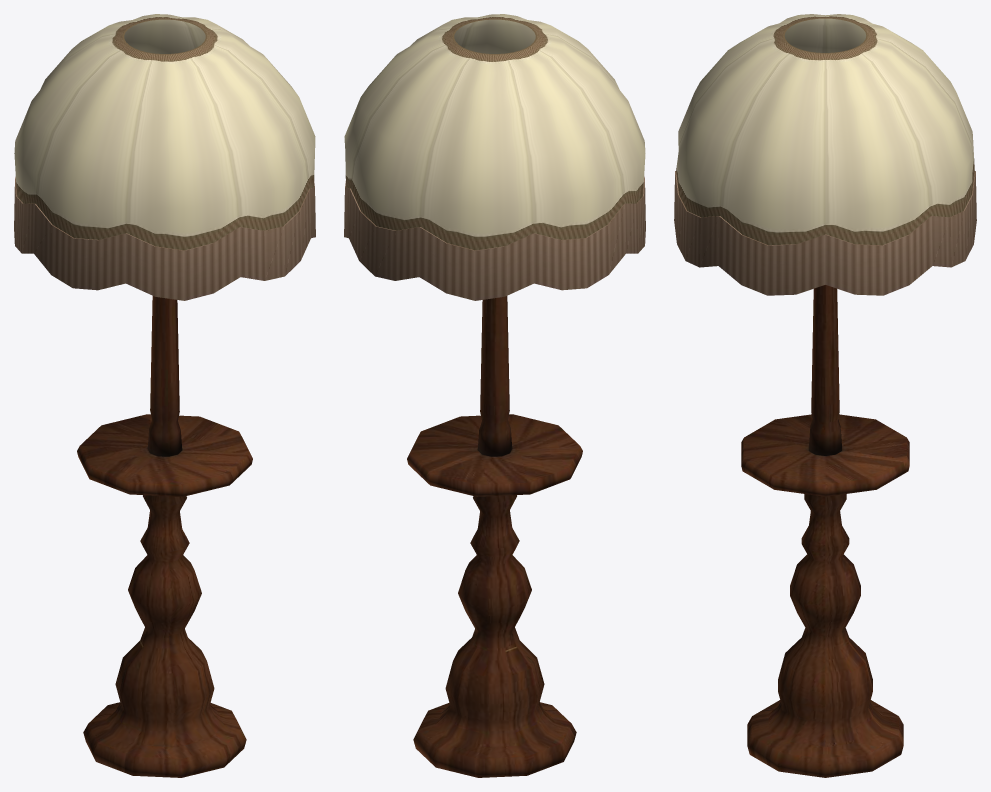
Rendered from floor_lamp_classic_lod1_web.glb.
3 renders of one model, left to right at view 1: azimuth 30°, elevation 25°; view 2: azimuth 150°, elevation 25°; view 3: azimuth 270°, elevation 25°, orthographic.
Visible parts, largest first — view 1: Glass_Shade_1, FloorLampClassic_Body, Glass_Fringe_1; view 2: Glass_Shade_1, FloorLampClassic_Body, Glass_Fringe_1; view 3: Glass_Shade_1, FloorLampClassic_Body, Glass_Fringe_1.
Part boxes in pixels (x1,y1,x2,y2): Glass_Shade_1: (14, 14, 315, 250); FloorLampClassic_Body: (77, 296, 252, 777); Glass_Fringe_1: (14, 177, 315, 300); Glass_Shade_1: (344, 14, 645, 250); FloorLampClassic_Body: (407, 296, 582, 777); Glass_Fringe_1: (344, 176, 645, 300); Glass_Shade_1: (676, 14, 974, 245); FloorLampClassic_Body: (741, 285, 909, 777); Glass_Fringe_1: (674, 171, 976, 295).
Size of the model in its own units: 0.608 by 1.57 by 0.608.
3 materials, 3 textured.
